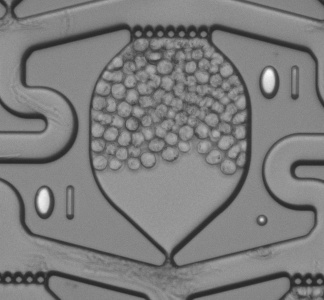AptNum: (255, 55, 308, 104)
Marker: (249, 210, 272, 230)
StNum: (30, 178, 86, 225)
